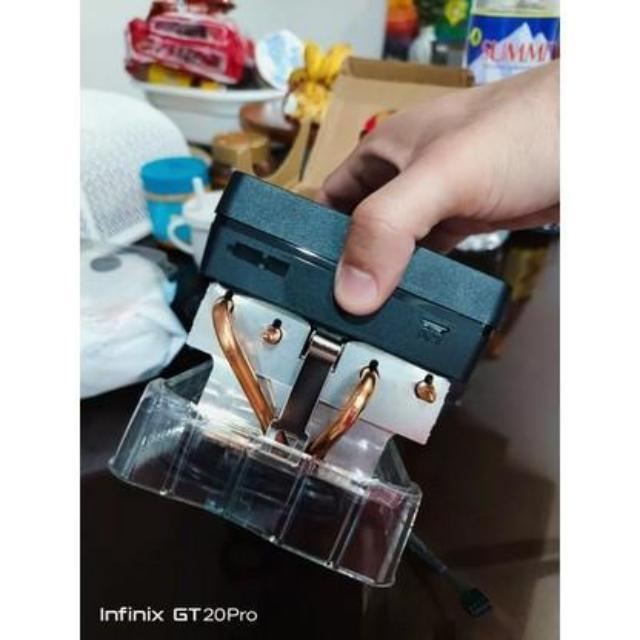CPU_Fan: (150, 164, 504, 527)
